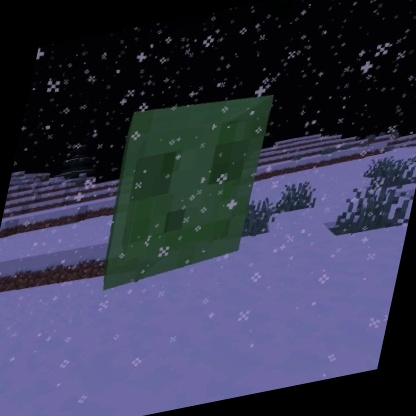slime: (89, 79, 281, 297)
